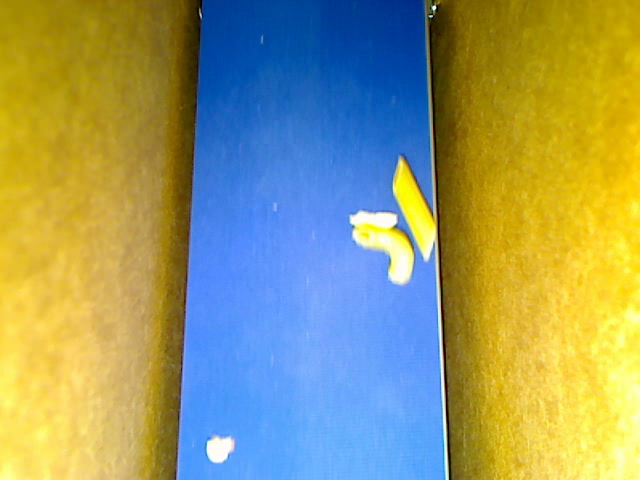elbow: (352, 224, 413, 283)
penne: (391, 154, 435, 261)
